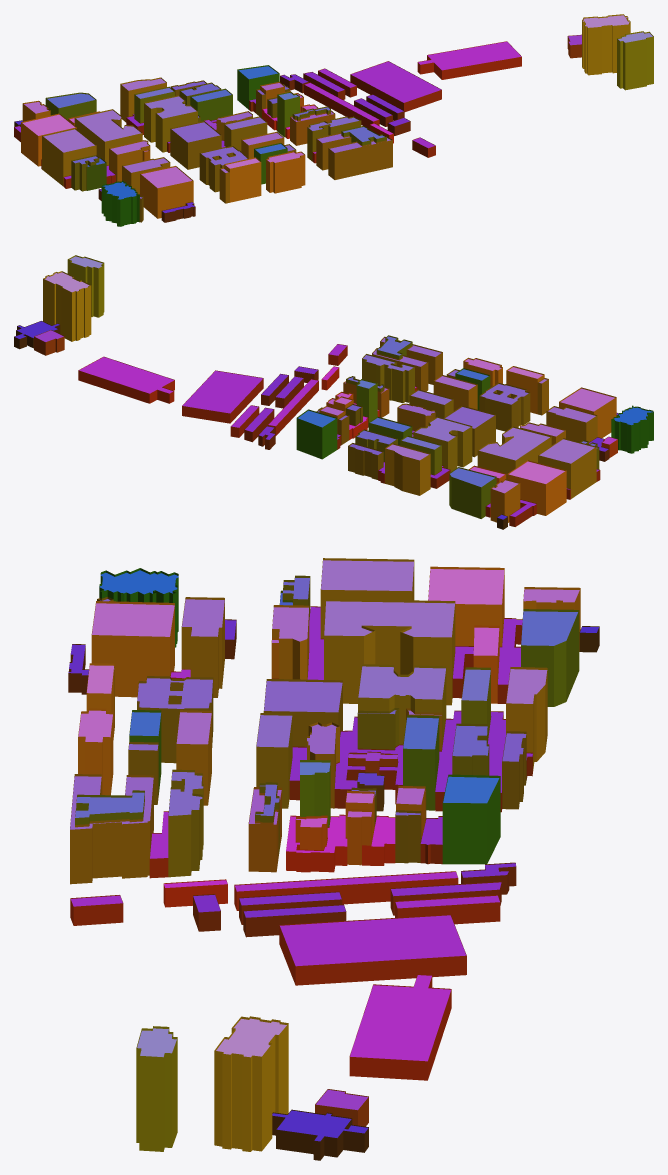
Rendered from edificios_T23.glb.
3 views of the same model, one above another, from view 1: azimuth 30°, elevation 25°; view 2: azimuth 150°, elevation 25°; view 3: azimuth 270°, elevation 25° (orthographic). The views are drawn at different scales.
Parts seen in each view (by area): view 1: Edificios_T23; view 2: Edificios_T23; view 3: Edificios_T23.
Boxes of the visible parts, <box> form: Edificios_T23: <box>14,14,653,226</box>; Edificios_T23: <box>14,255,653,529</box>; Edificios_T23: <box>68,558,599,1160</box>.
Bounding box in the file's own units: 522 × 45.49 × 215.
